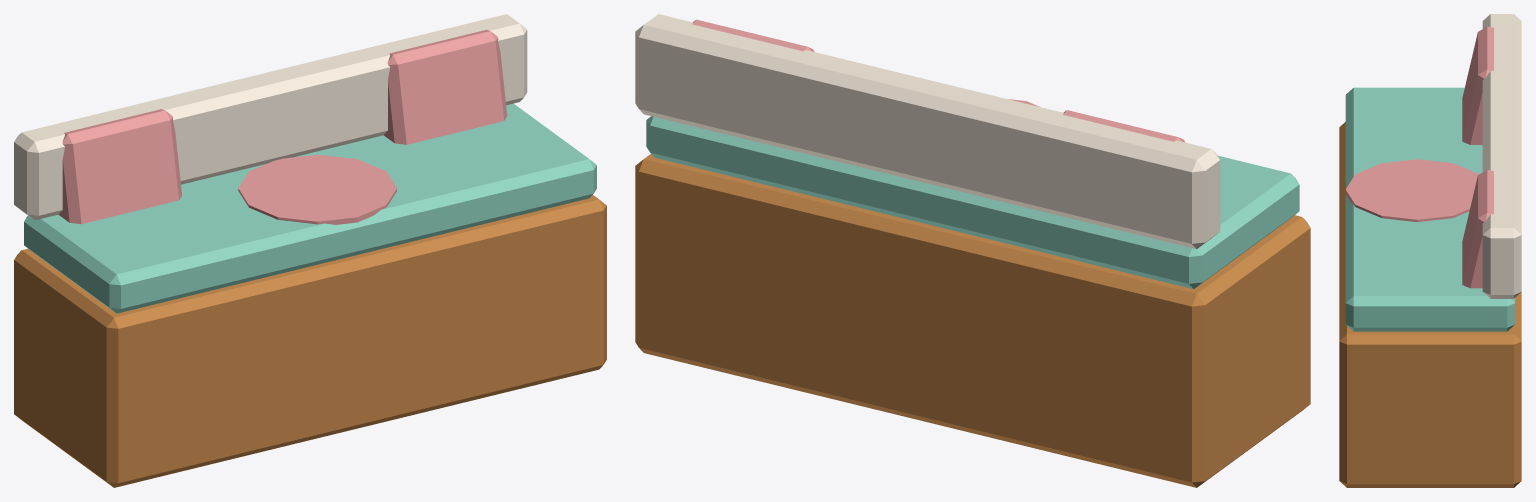
The model's file is CatCafe_Furniture_WindowSeat.glb.
3 views of the same model, side by side, from view 1: azimuth 30°, elevation 25°; view 2: azimuth 150°, elevation 25°; view 3: azimuth 270°, elevation 25° (orthographic). The views are drawn at different scales.
Visible parts, largest first — view 1: CatCafe_Furniture_WindowSeat; view 2: CatCafe_Furniture_WindowSeat; view 3: CatCafe_Furniture_WindowSeat.
Part boxes in pixels (x1,y1,x2,y2): CatCafe_Furniture_WindowSeat: [14, 14, 606, 487]; CatCafe_Furniture_WindowSeat: [635, 14, 1310, 487]; CatCafe_Furniture_WindowSeat: [1339, 14, 1521, 487].
Size of the model in its own units: 4 by 2.21 by 1.4.
Materials: 1 (1 with a texture image).
